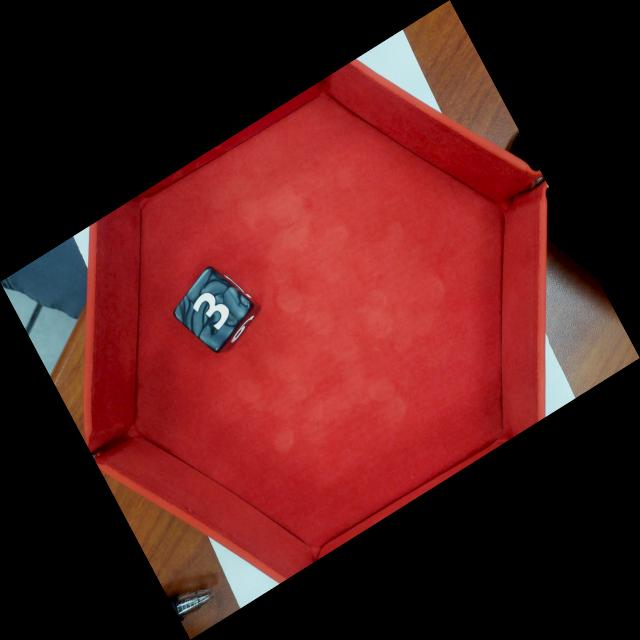dice: (179, 269, 250, 354)
